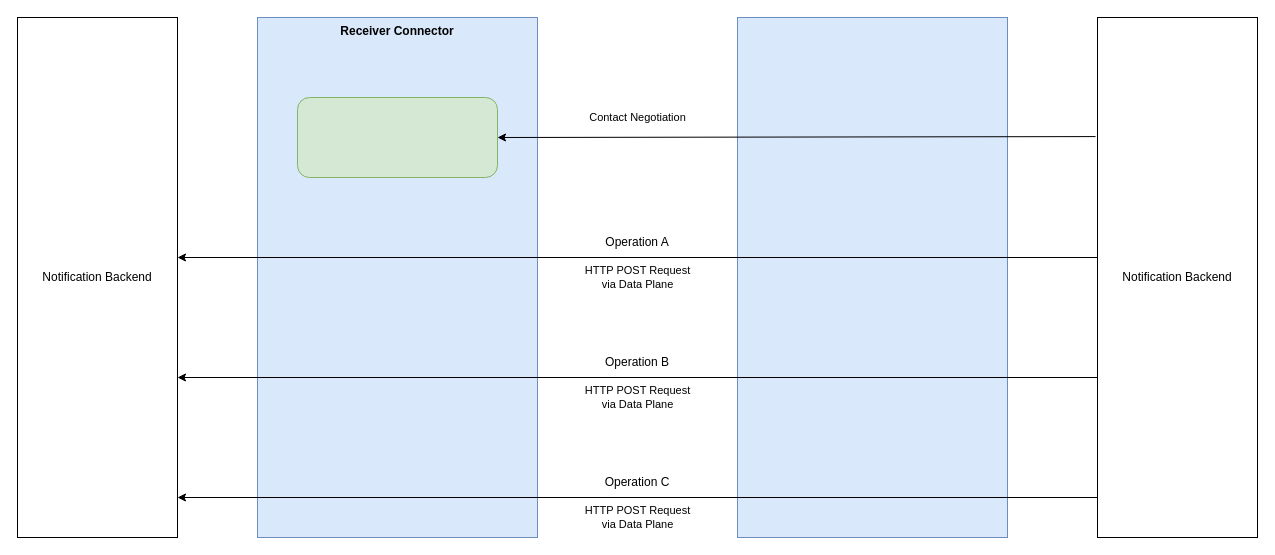
Some shapes in this 1275 by 555 pixel diagram are drawn without their labels. The centre of each missing label's shape, as x and y in pixels:
Connector Asset for Notification: (397,137)
Sender Connector: (872,277)
